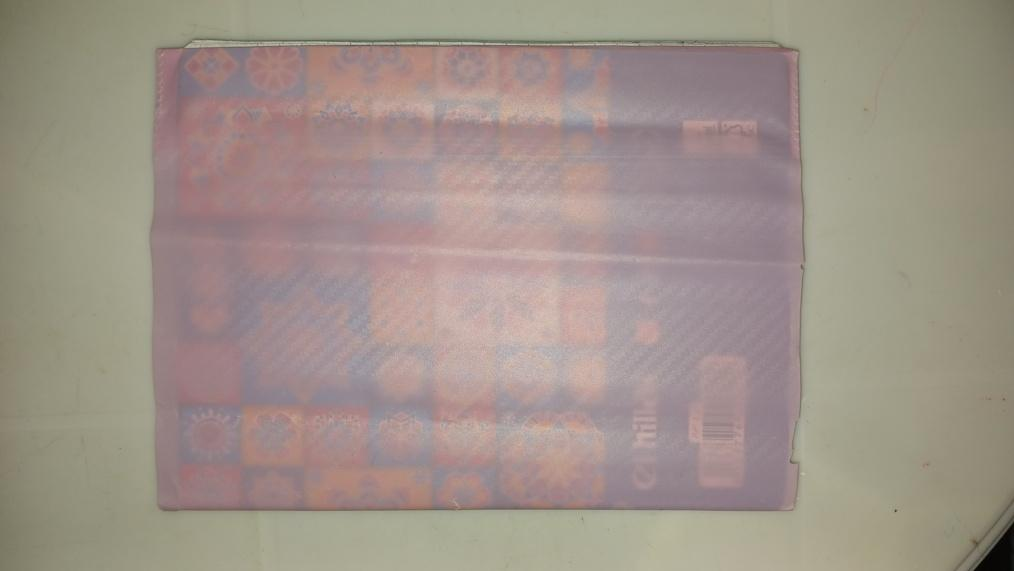notebook: (151, 42, 800, 512)
